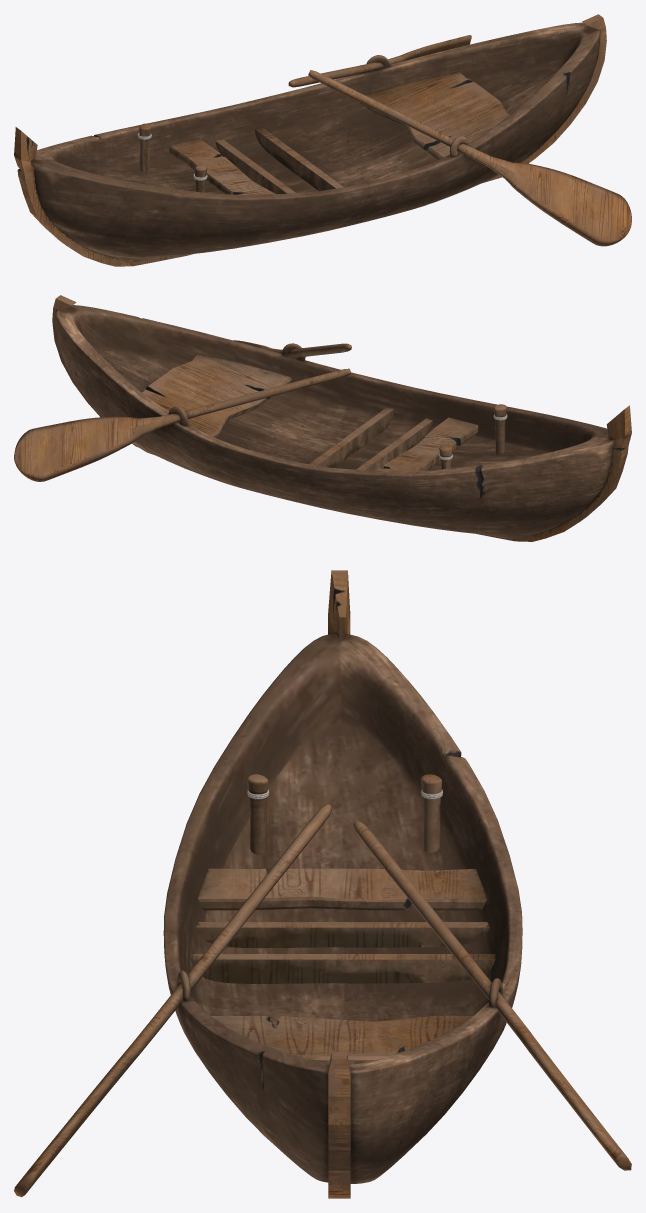
File: boat_wooden_realistic.glb
3 views of the same model, one above another, from view 1: azimuth 30°, elevation 25°; view 2: azimuth 150°, elevation 25°; view 3: azimuth 270°, elevation 25° (orthographic). The views are drawn at different scales.
Parts seen in each view (by area): view 1: Body_Body_boat_0, A_4_A_0; view 2: Body_Body_boat_0, A_4_A_0; view 3: Body_Body_boat_0, A_4_A_0.
Boxes of the visible parts, x1,y1,x2,y2 form: Body_Body_boat_0: (31, 22, 599, 261); A_4_A_0: (14, 14, 631, 266); Body_Body_boat_0: (56, 305, 614, 539); A_4_A_0: (14, 295, 631, 541); Body_Body_boat_0: (163, 633, 522, 1183); A_4_A_0: (14, 570, 631, 1198).
Size of the model in its own units: 5.92 by 1.6 by 3.47.
3 materials, 3 textured.
